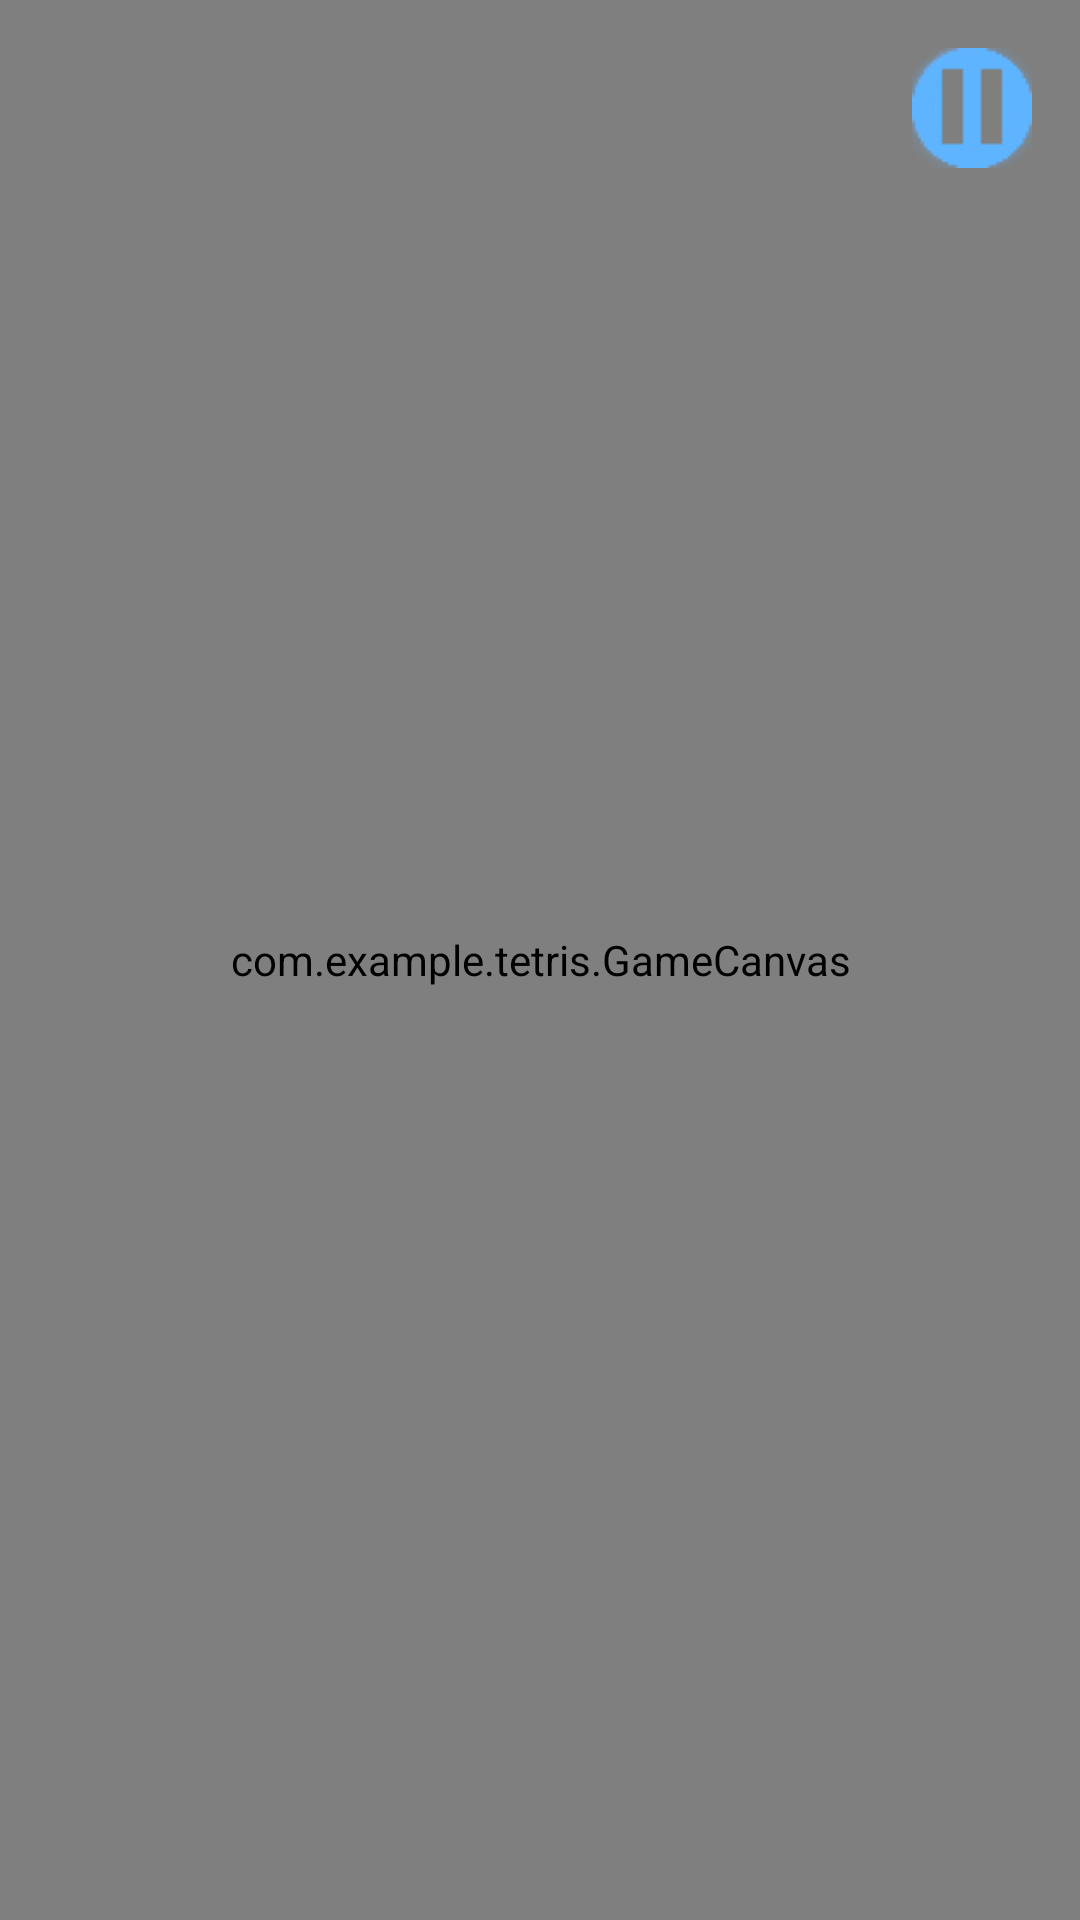

Screen size 1080px×1920px. Icon name, then its center in pixels as [x,y]:
pause: [972,108]
